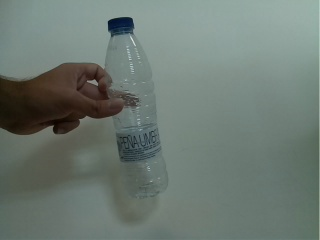botella plastico: (102, 16, 172, 199)
